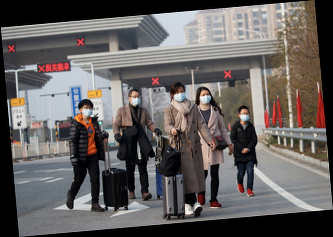with_mask: (198, 92, 213, 105), (172, 89, 186, 102), (238, 111, 251, 124), (130, 93, 142, 107), (81, 105, 93, 118)
